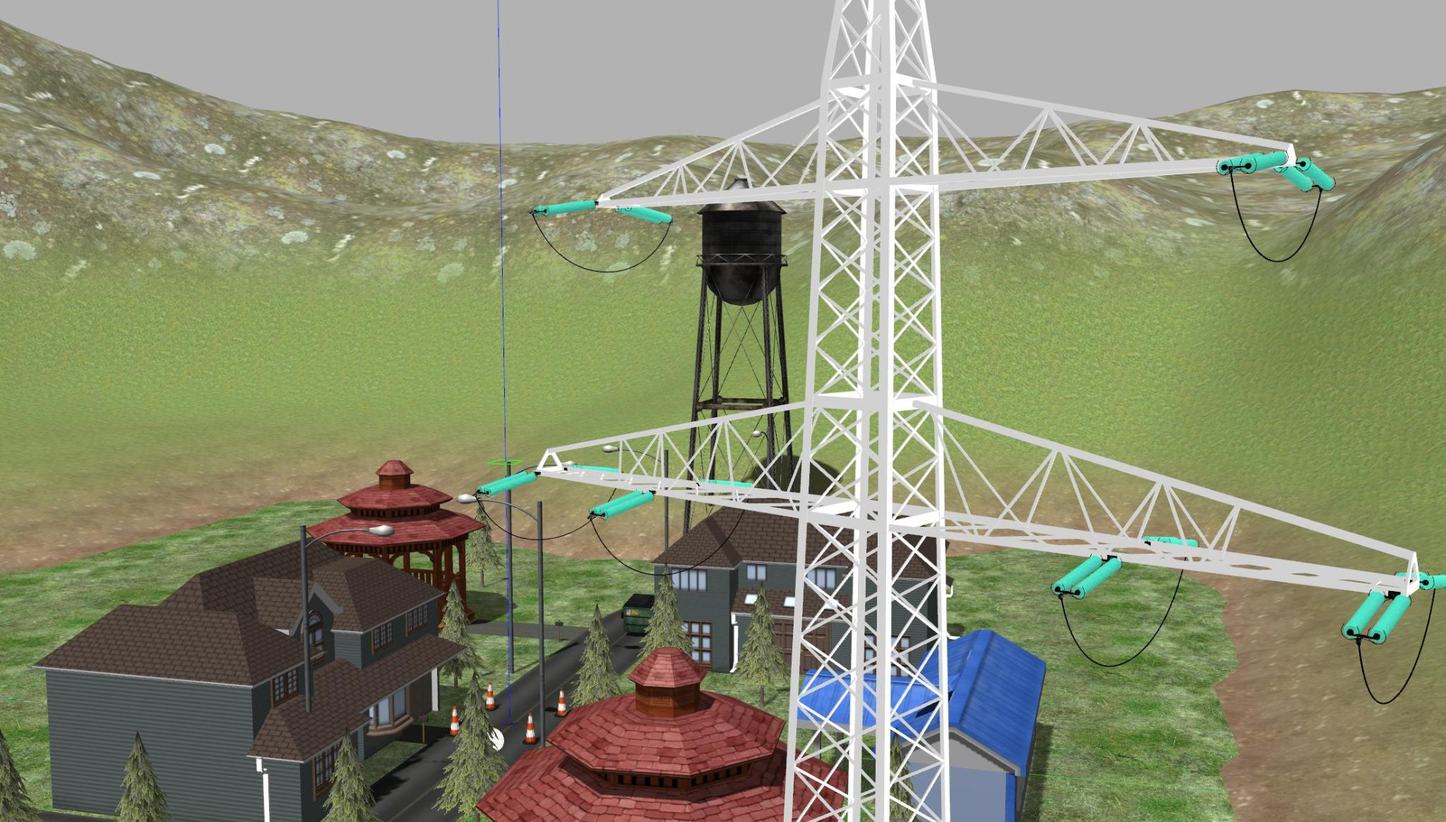tower: (526, 0, 1426, 822)
